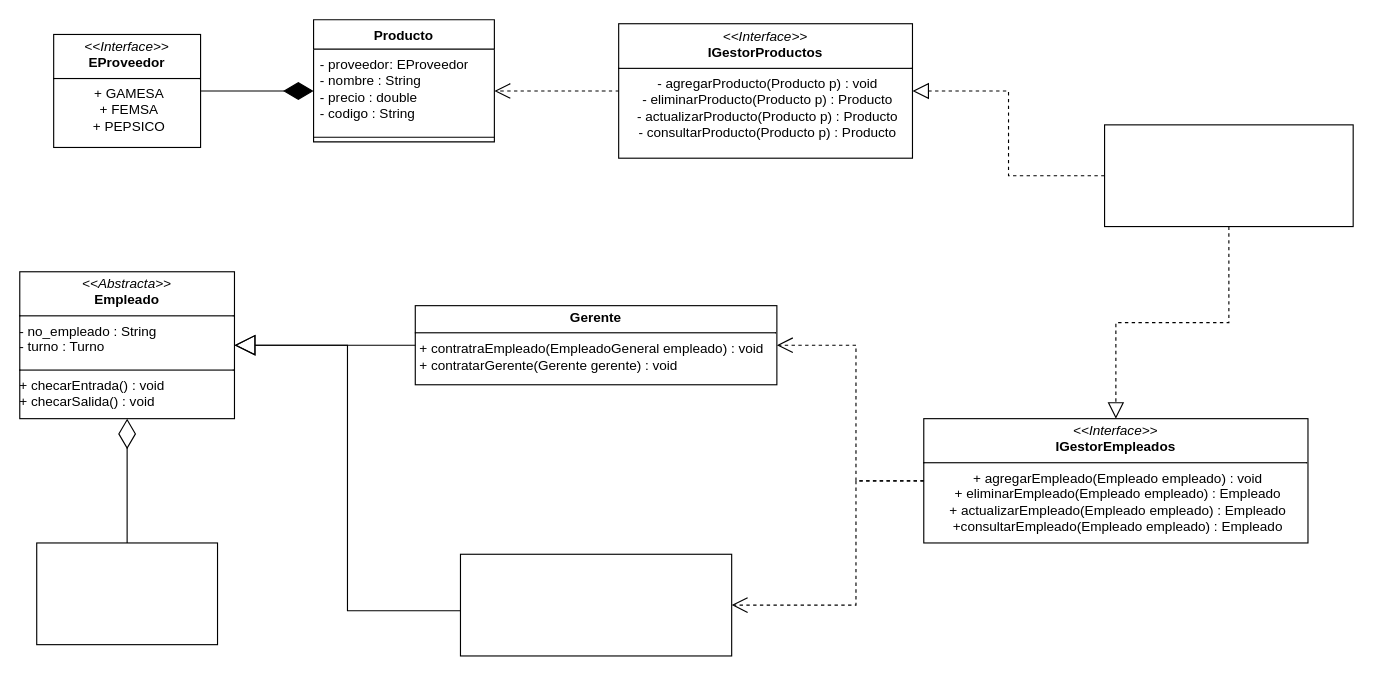
Some shapes in this 1373 by 676 pixel diagram are drawn without their labels. Each missing label, with the box of its shape:
EmpleadoGeneral + vender(Producto producto) : Producto: (459, 553, 732, 656)
Tienda - productos : List<Producto> - empleados : List<Empleado>: (1103, 124, 1353, 227)
Turno - horaEntrada : Date - horaSalida : Date: (36, 542, 218, 645)
